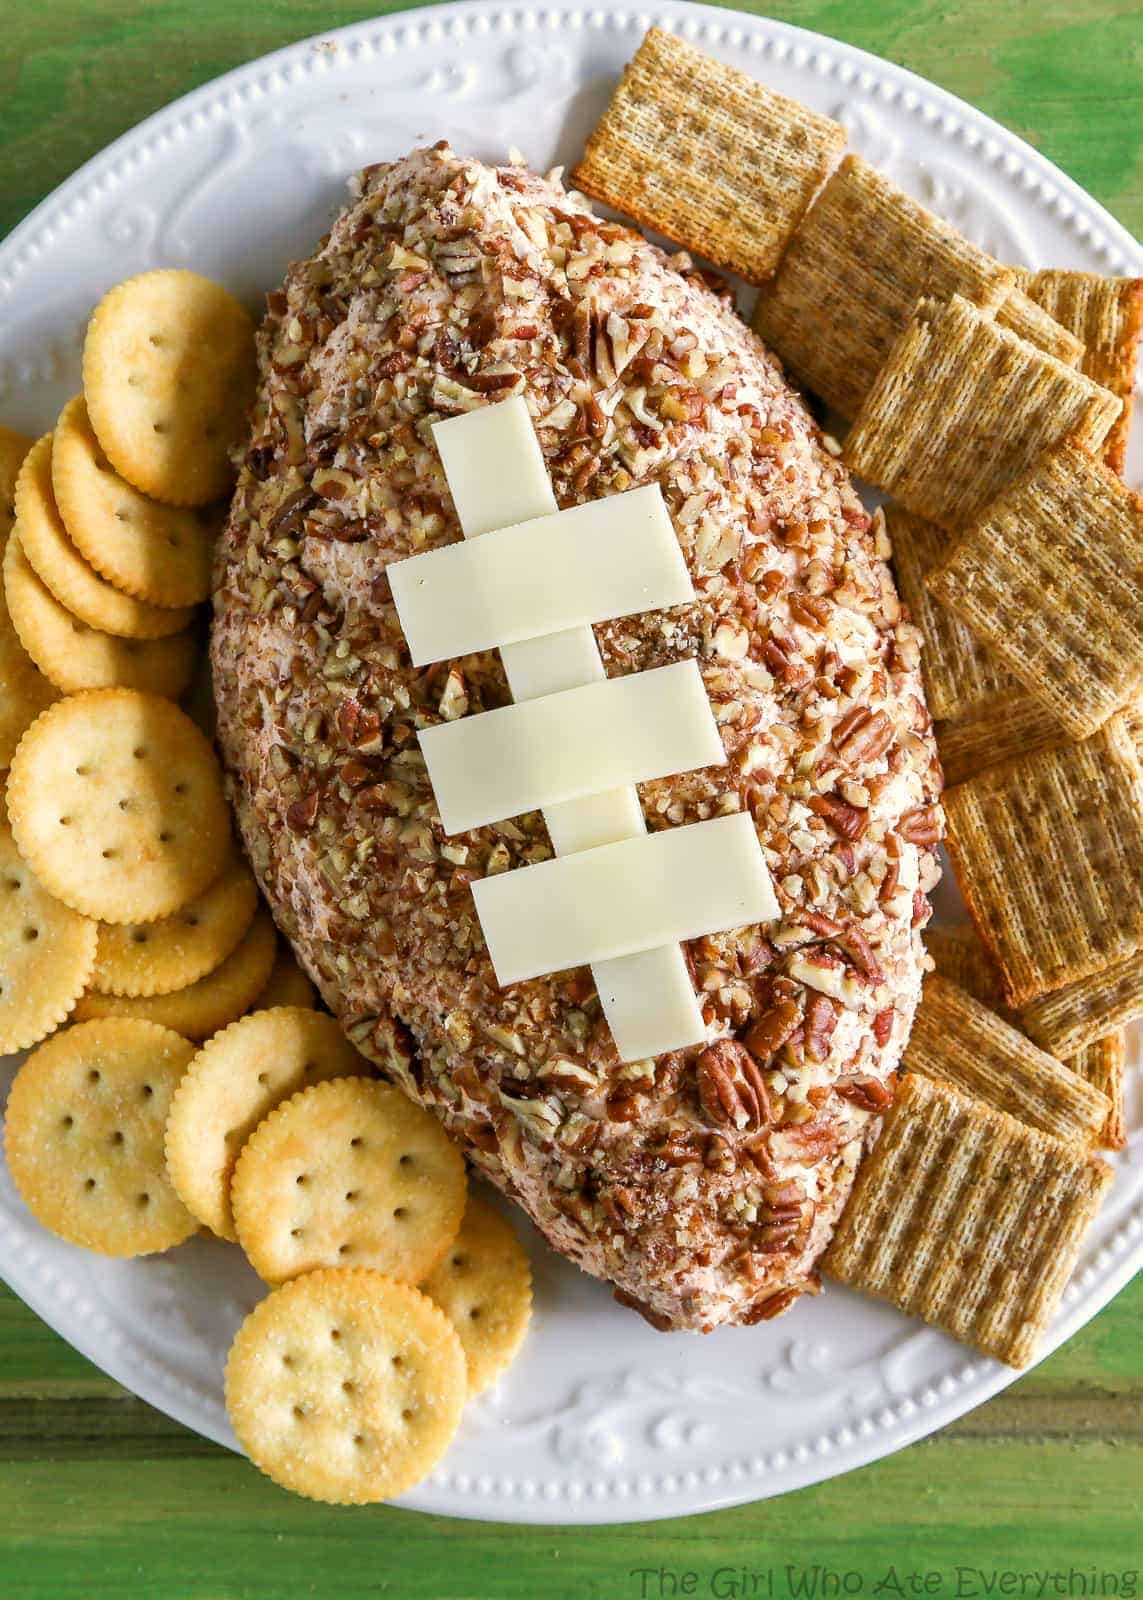cheese: (466, 805, 805, 1003), (366, 479, 708, 643), (350, 704, 746, 836)
